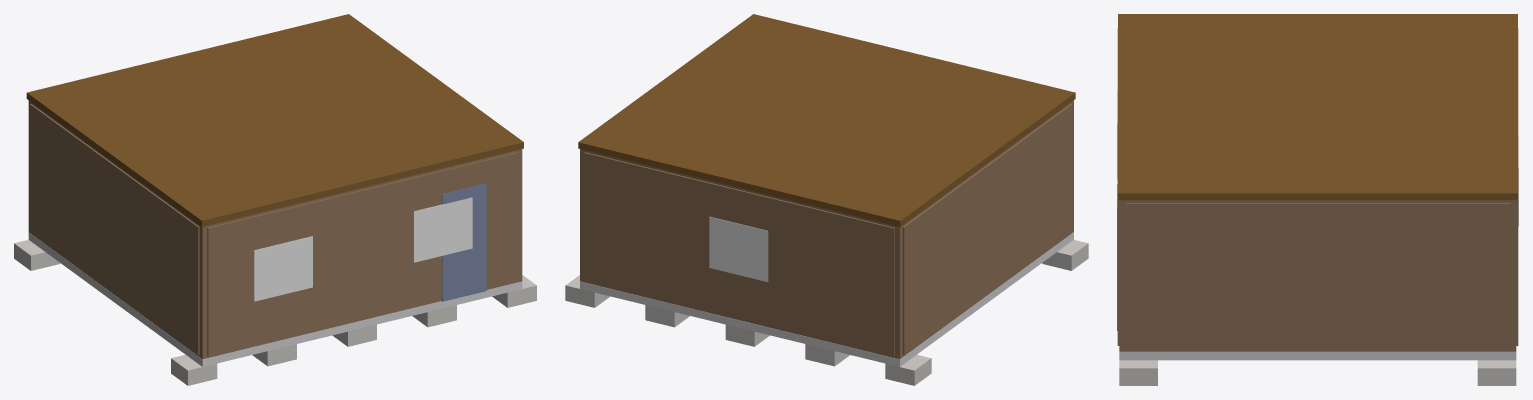
The model's file is Studio-20-Base-DarkBrown-LOD3.glb.
The picture shows the model from 3 angles, left to right: view 1: azimuth 30°, elevation 25°; view 2: azimuth 150°, elevation 25°; view 3: azimuth 270°, elevation 25°; orthographic projection. The views are drawn at different scales.
Parts seen in each view (by area): view 1: RoofMain, ExteriorPanelsStandard, WindowsStandard, FoundationBlocks, ExteriorShell, BaseFrame, EntryDoor; view 2: ExteriorPanelsStandard, RoofMain, FoundationBlocks, BaseFrame, ExteriorShell, WindowsStandard; view 3: RoofMain, ExteriorPanelsStandard, ExteriorShell, BaseFrame, FoundationBlocks.
Part boxes in pixels (box(x1,y1,x2,y2)): RoofMain: box(26, 14, 523, 226); ExteriorPanelsStandard: box(30, 104, 518, 355); WindowsStandard: box(254, 197, 472, 301); FoundationBlocks: box(14, 240, 536, 385); ExteriorShell: box(28, 100, 522, 359); BaseFrame: box(28, 232, 522, 366); EntryDoor: box(441, 183, 486, 301); ExteriorPanelsStandard: box(584, 104, 1072, 355); RoofMain: box(578, 14, 1075, 226); FoundationBlocks: box(565, 240, 1088, 385); BaseFrame: box(580, 232, 1073, 366); ExteriorShell: box(580, 100, 1073, 359); WindowsStandard: box(709, 216, 768, 281); RoofMain: box(1118, 14, 1517, 200); ExteriorPanelsStandard: box(1117, 28, 1518, 349); ExteriorShell: box(1119, 200, 1516, 351); BaseFrame: box(1119, 351, 1516, 360); FoundationBlocks: box(1119, 360, 1516, 385).
Size of the model in its own units: 7.14 by 3.17 by 6.24.
